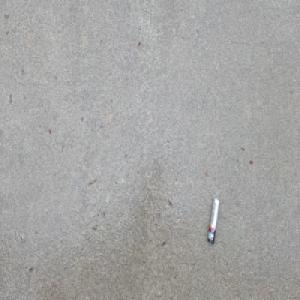Battery: (206, 195, 220, 244)
